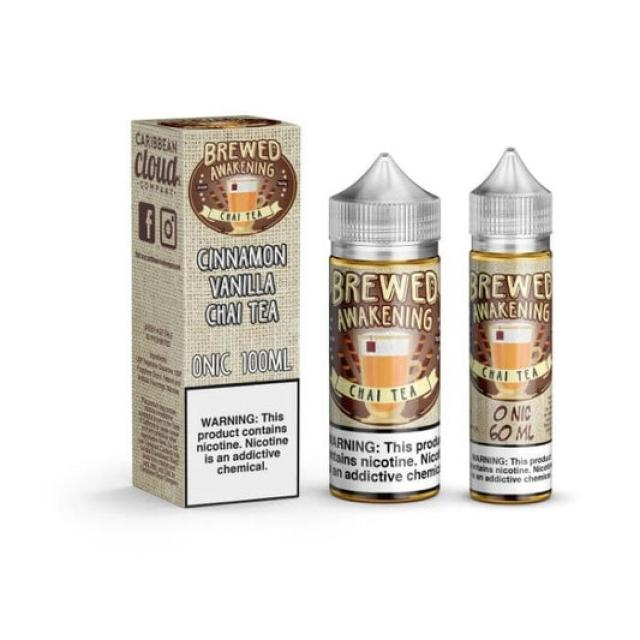Hazard: (128, 115, 302, 508), (325, 150, 442, 503), (466, 146, 555, 504)
